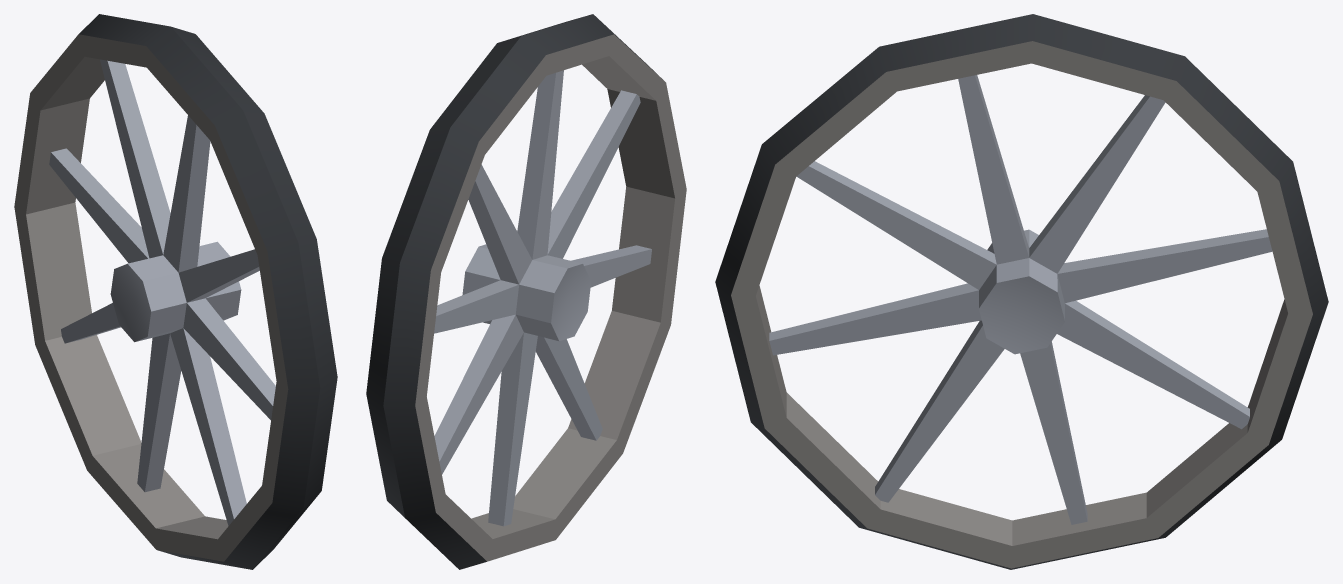
File: SM_Prop_Cart_Tray_Wheel_fr.fbx
3 views of the same model, side by side, from view 1: azimuth 30°, elevation 25°; view 2: azimuth 150°, elevation 25°; view 3: azimuth 270°, elevation 25° (orthographic). The views are drawn at different scales.
Parts seen in each view (by area): view 1: SM_Prop_Cart_Tray_Wheel_fr; view 2: SM_Prop_Cart_Tray_Wheel_fr; view 3: SM_Prop_Cart_Tray_Wheel_fr.
Part boxes in pixels (<box>): SM_Prop_Cart_Tray_Wheel_fr: <box>14,14,337,569</box>; SM_Prop_Cart_Tray_Wheel_fr: <box>366,14,686,569</box>; SM_Prop_Cart_Tray_Wheel_fr: <box>715,14,1328,569</box>.
Size of the model in its own units: 10.61 by 58.88 by 58.88.
